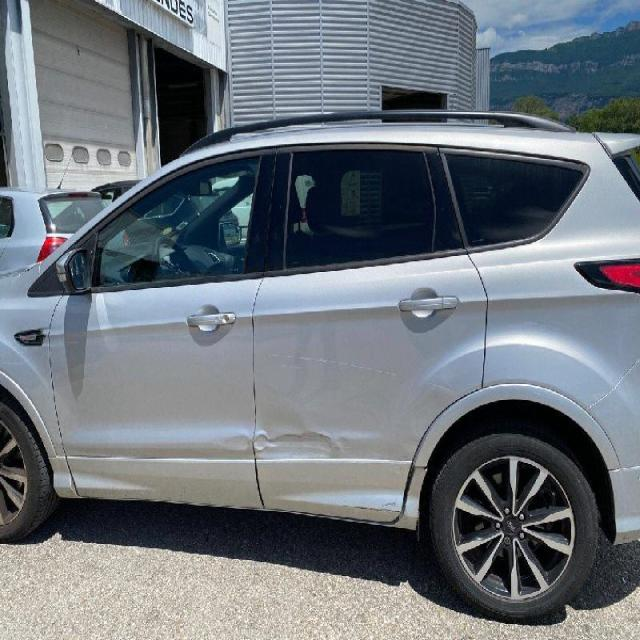porte-avant: (46, 147, 278, 512)
